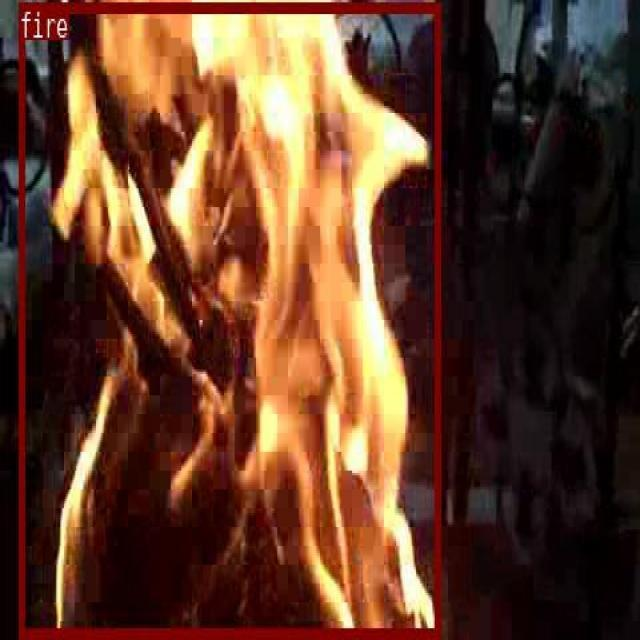fire: (19, 2, 439, 635)
